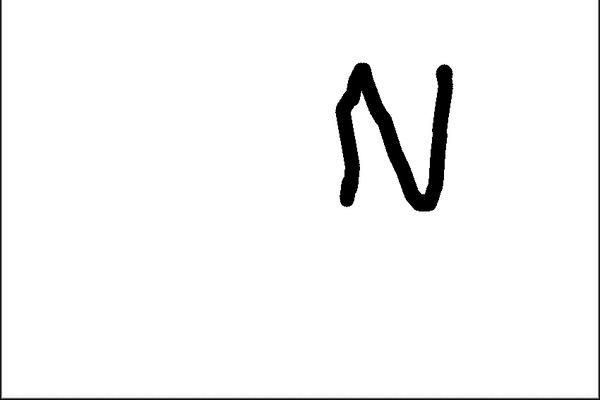N: (329, 54, 458, 218)
